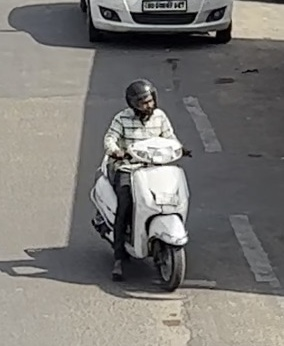BikeWithRider: (82, 74, 198, 296)
Helmet: (119, 73, 163, 121)
